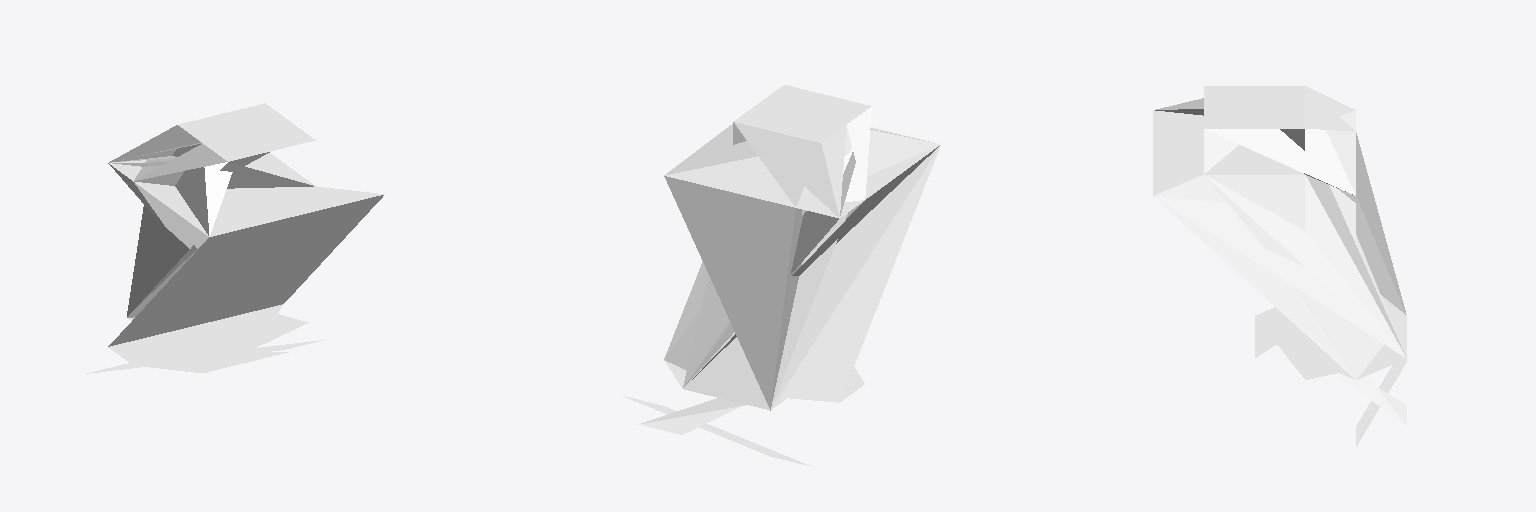
File: Skeleton_Run2.obj
3 views of the same model, side by side, from view 1: azimuth 30°, elevation 25°; view 2: azimuth 150°, elevation 25°; view 3: azimuth 270°, elevation 25° (orthographic).
Bounding box in the file's own units: 5 × 6 × 5.